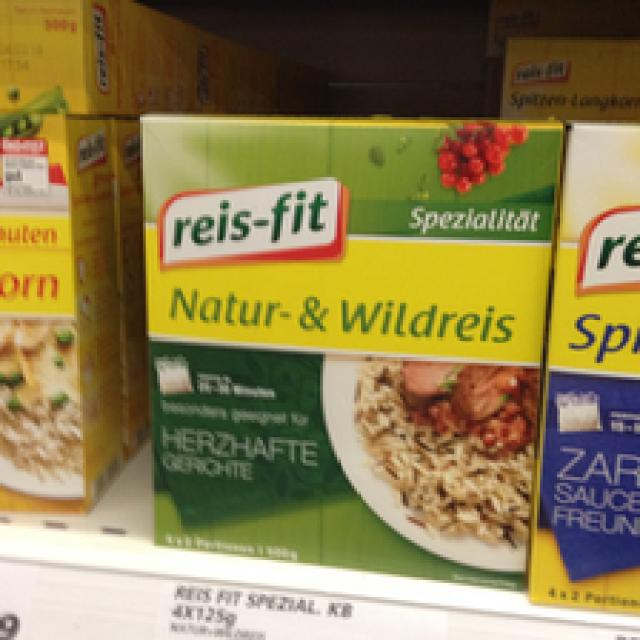groceries: (137, 114, 560, 592)
